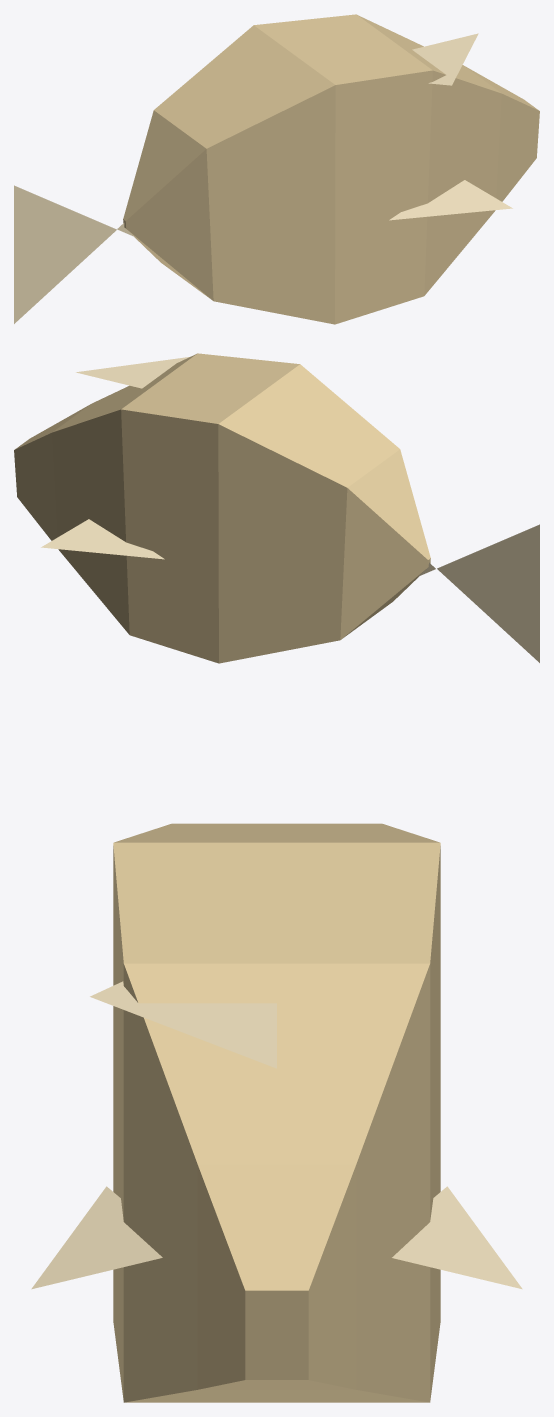
Rendered from fish_round.glb.
3 renders of one model, top to bottom at view 1: azimuth 30°, elevation 25°; view 2: azimuth 150°, elevation 25°; view 3: azimuth 270°, elevation 25°, orthographic. The views are drawn at different scales.
Parts seen in each view (by area): view 1: RoundFish, r_tail, r_pect-1, r_dorsal; view 2: RoundFish, r_tail, r_pect1, r_dorsal; view 3: RoundFish, r_dorsal, r_pect-1, r_pect1.
Part boxes in pixels (x1,y1,x2,y2): RoundFish: (123, 14, 539, 324); r_tail: (14, 185, 116, 323); r_pect-1: (389, 180, 512, 220); r_dorsal: (412, 33, 478, 85); RoundFish: (14, 353, 430, 663); r_tail: (437, 524, 539, 662); r_pect1: (41, 519, 164, 559); r_dorsal: (76, 357, 189, 388); RoundFish: (113, 823, 440, 1402); r_dorsal: (90, 981, 276, 1068); r_pect-1: (31, 1186, 162, 1289); r_pect1: (392, 1186, 522, 1289).
Bounding box in the file's own units: 0.7021 × 0.31 × 0.2887.
